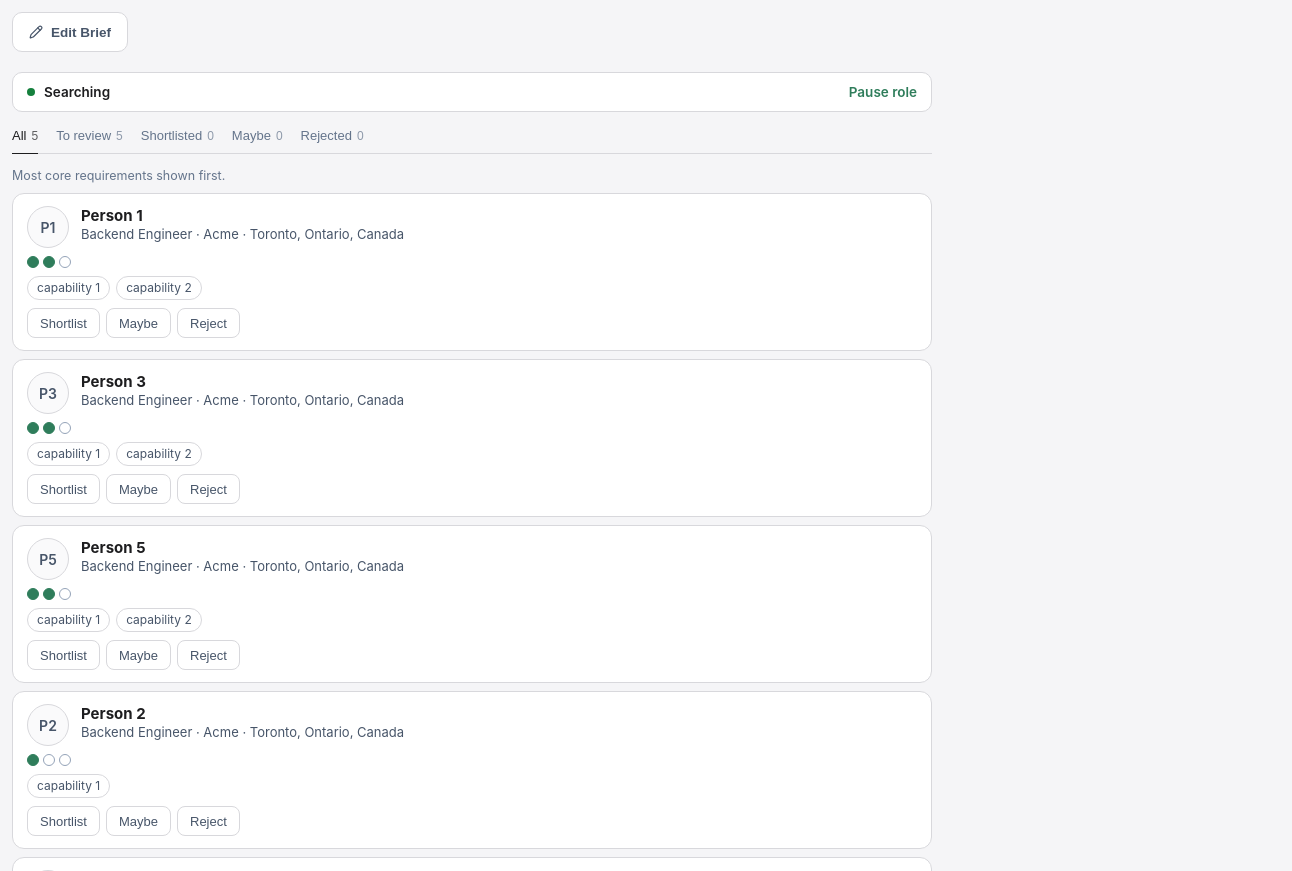
Maybe and Reject ask why, once and quickly › asks what makes the recruiter unsure after Maybe, and saves the reason they pick
This screenshot has width=1292, height=871.
Click the button "Maybe" below "P1" at (138, 323), box [106,308,171,338]
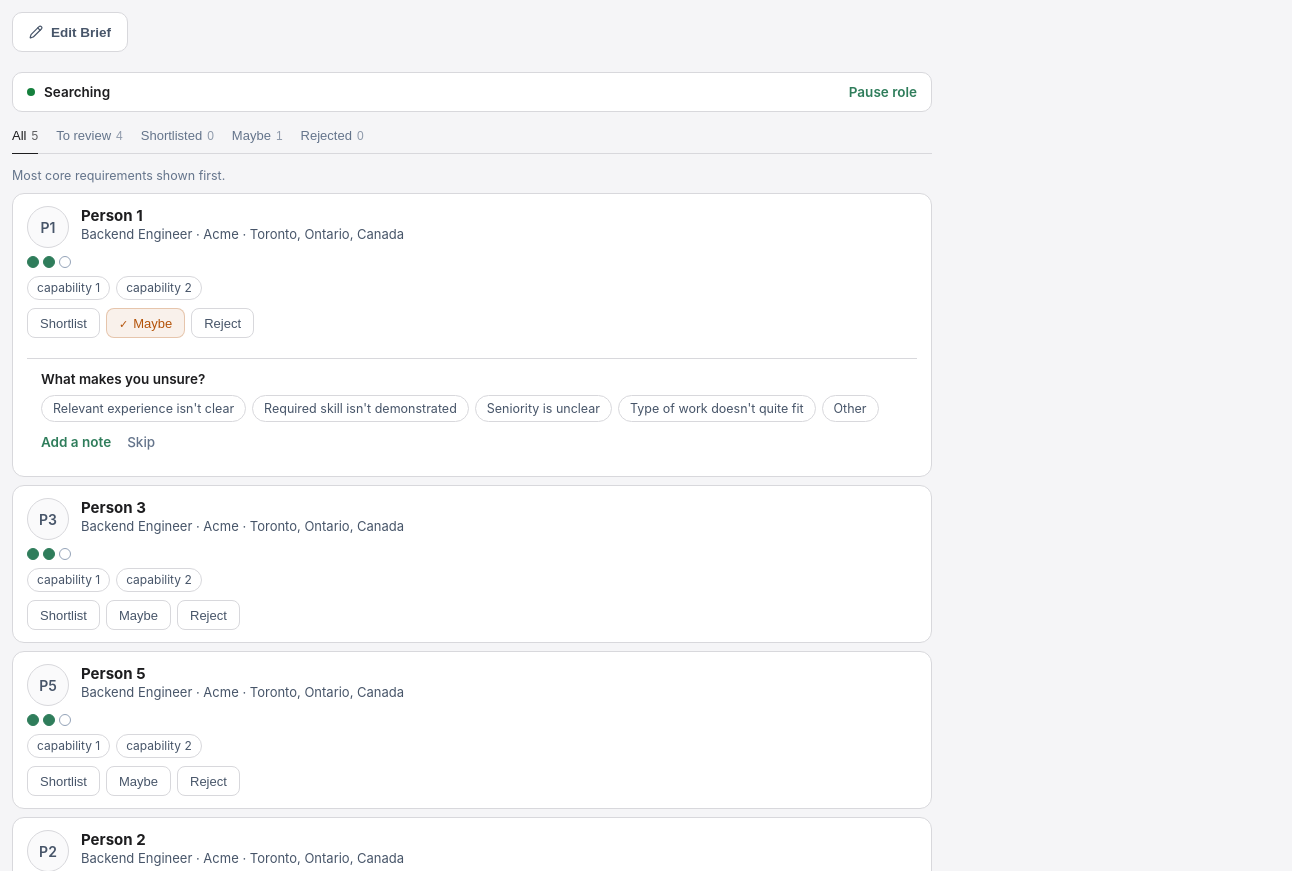
Expected: the element with class "ws-feedback" shows "What makes you unsure?", [41,371,205,387]
Click the button "Seniority is unclear" at (543, 408), box [475,395,612,422]
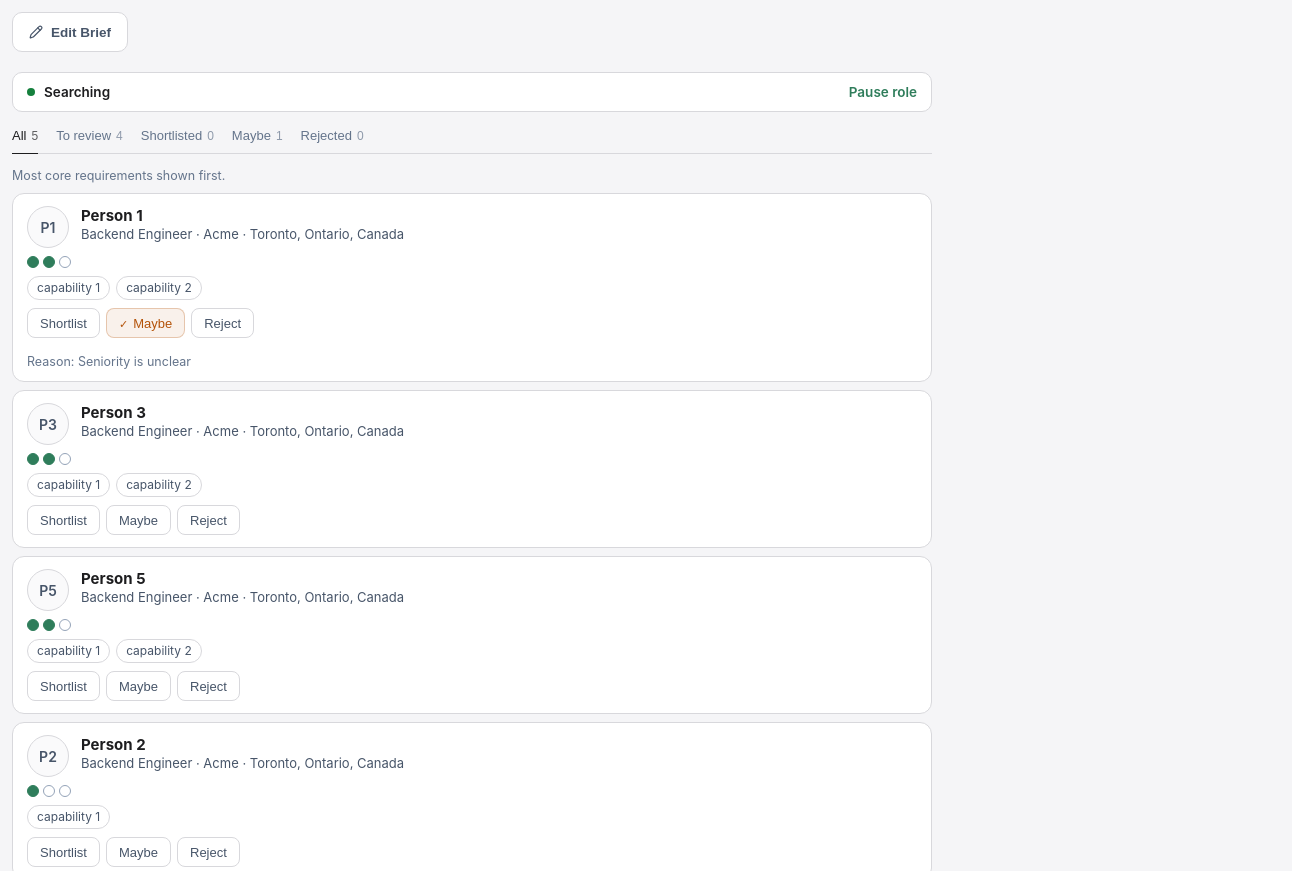
Expected: the element with class "ws-feedback" is gone
Expected: the element with class "ws-card" shows "Reason: Seniority is unclear", [27,354,191,369]
